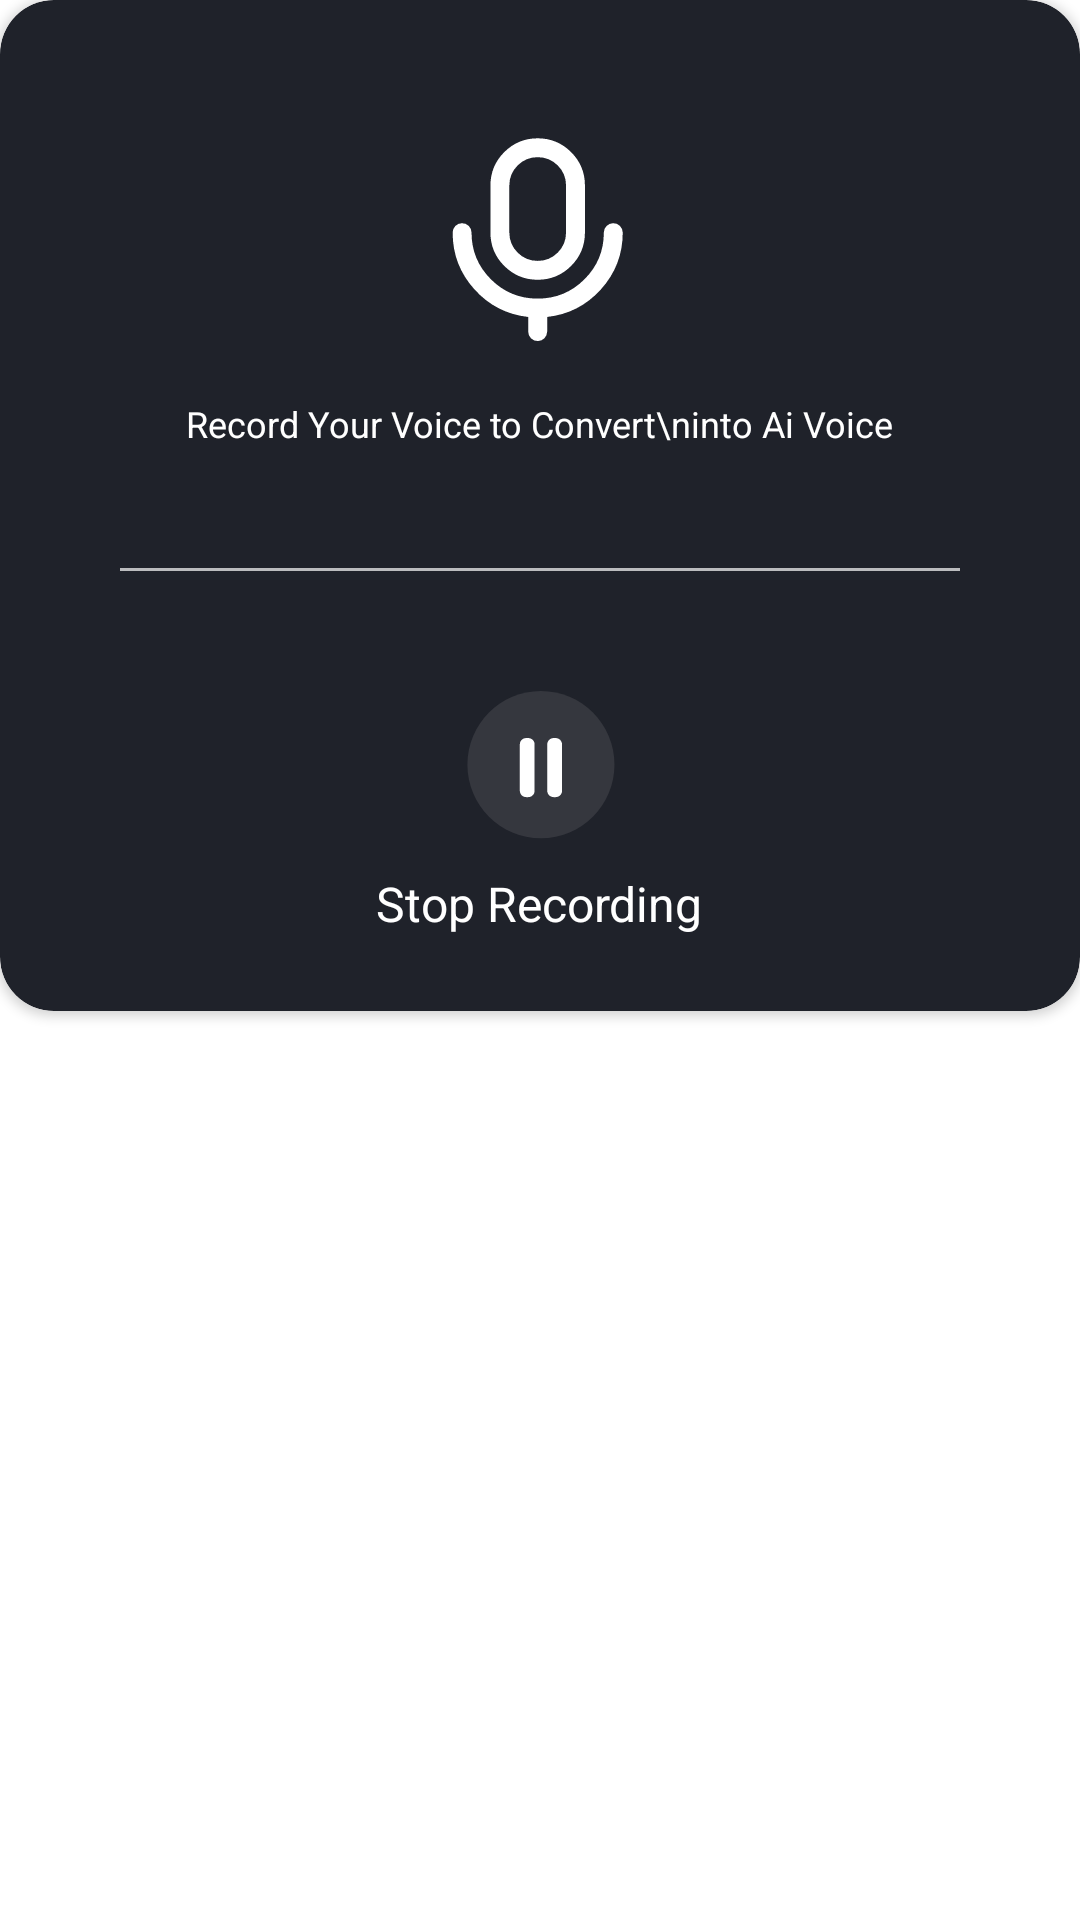

Screen size 1080*1920. Icon name, then its box in pixels as (x1, y1, x2, y2):
mic: (452, 138, 623, 341)
pause audio second: (519, 738, 562, 798)
